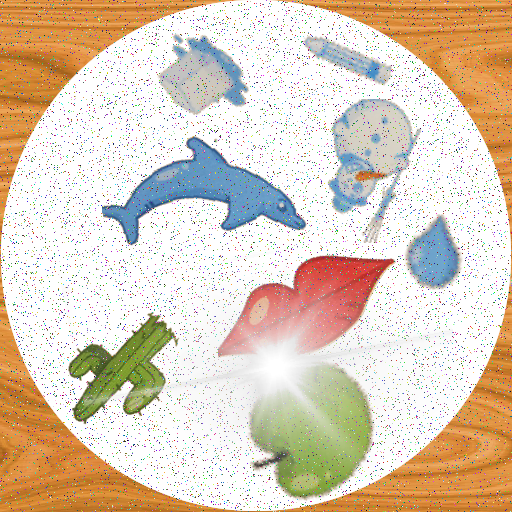apple_icon: (244, 359, 391, 506)
cactus_icon: (55, 301, 196, 442)
cube_icon: (144, 27, 252, 135)
dolphin_icon: (102, 98, 307, 303)
lips_icon: (218, 228, 398, 408)
pen_icon: (302, 13, 393, 104)
raindrop_icon: (398, 214, 474, 290)
snowman_icon: (303, 99, 447, 243)
